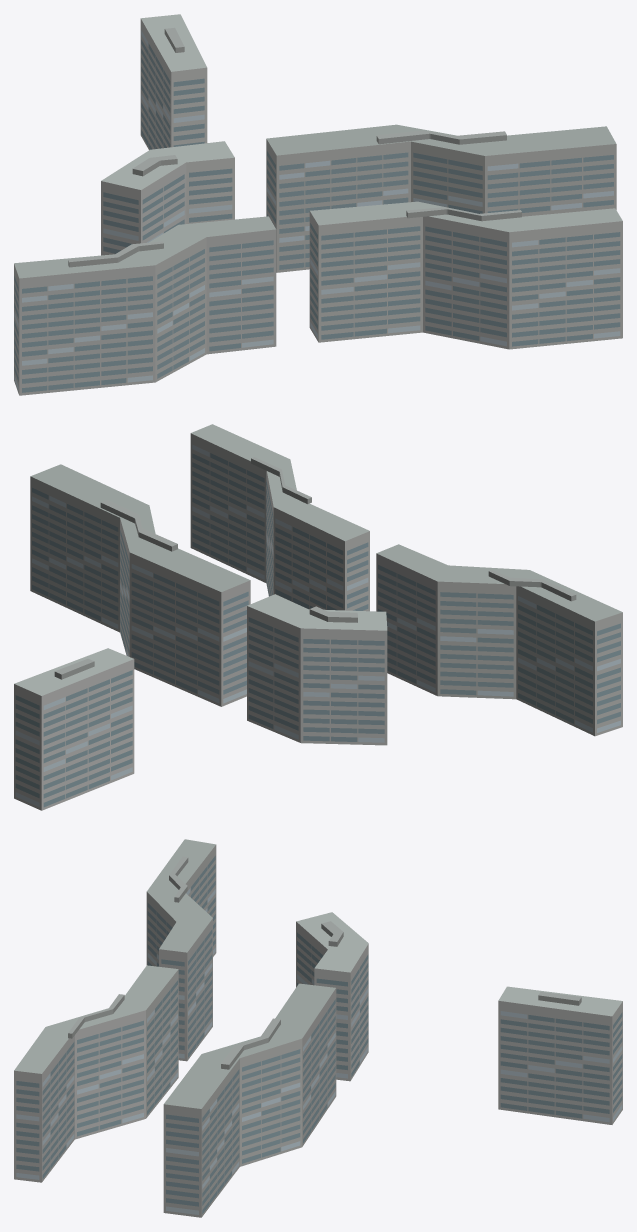
Rendered from apt-a15785612.glb.
3 renders of one model, top to bottom at view 1: azimuth 30°, elevation 25°; view 2: azimuth 150°, elevation 25°; view 3: azimuth 270°, elevation 25°, orthographic. The views are drawn at different scales.
Visible parts, largest first — view 1: apt-a15785612; view 2: apt-a15785612; view 3: apt-a15785612.
Part boxes in pixels (box(x1,y1,x2,y2)): apt-a15785612: box(14, 14, 622, 395); apt-a15785612: box(14, 424, 622, 810); apt-a15785612: box(14, 839, 622, 1217).
Bounding box in the file's own units: 211 × 41.43 × 201.
